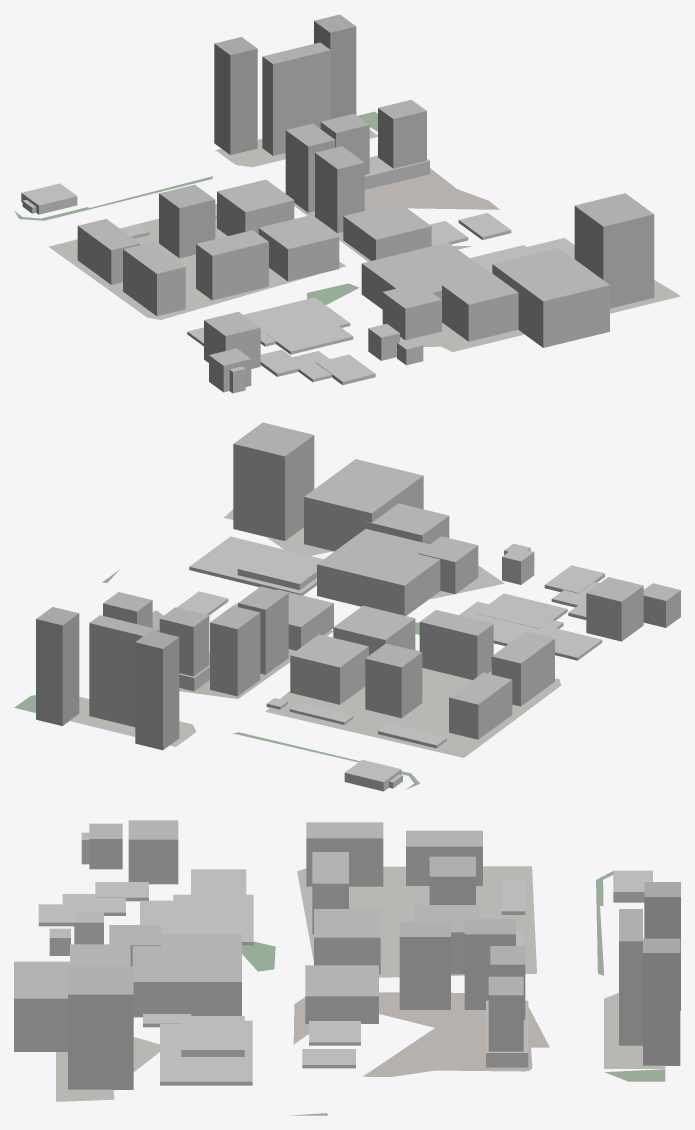
Rendered from 125_77_mid.glb.
The picture shows the model from 3 angles, top to bottom: view 1: azimuth 30°, elevation 25°; view 2: azimuth 150°, elevation 25°; view 3: azimuth 270°, elevation 25°; orthographic projection. The views are drawn at different scales.
Bounding box in the file's own units: 502 × 104 × 547.
